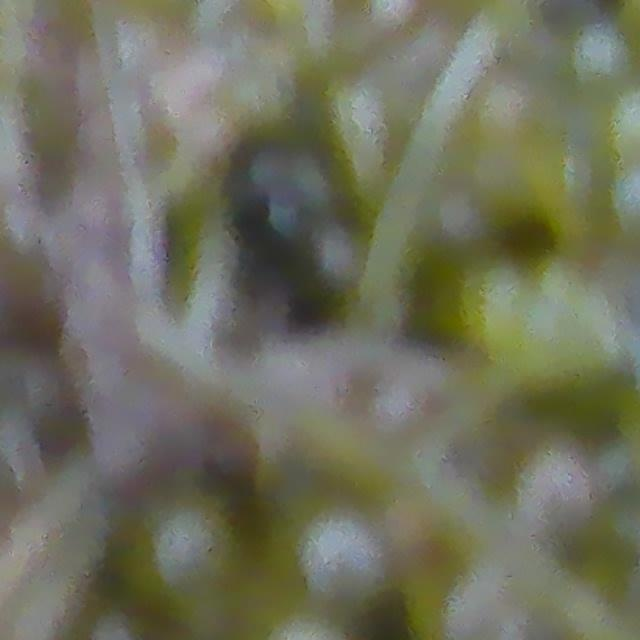SeaGrape: (282, 503, 387, 603), (567, 21, 637, 89)
